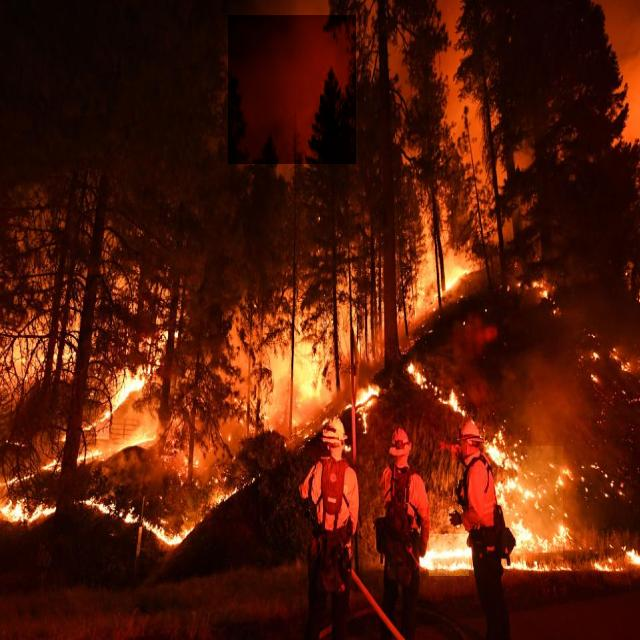Fire: (8, 329, 221, 534), (502, 446, 563, 553), (429, 534, 469, 576)
Smoke: (228, 15, 356, 164)
